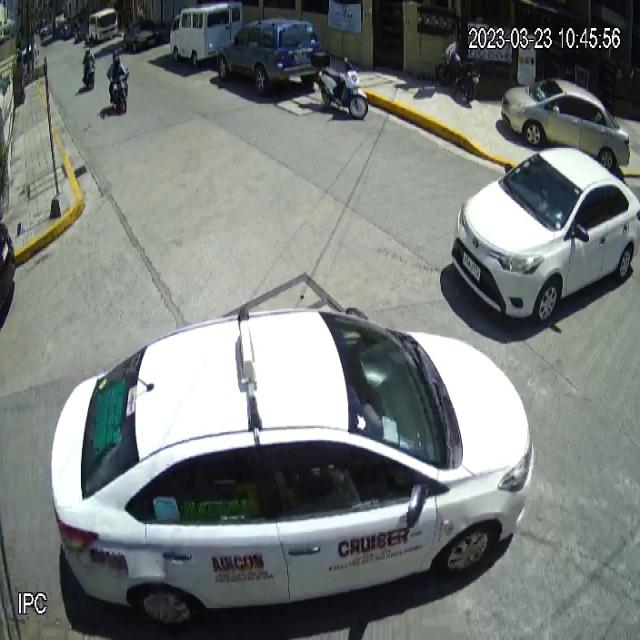Car: (50, 303, 533, 629), (450, 144, 638, 330), (499, 75, 632, 172), (216, 18, 320, 97)
Motorcycle: (310, 51, 369, 120)
Van: (169, 0, 244, 69)
